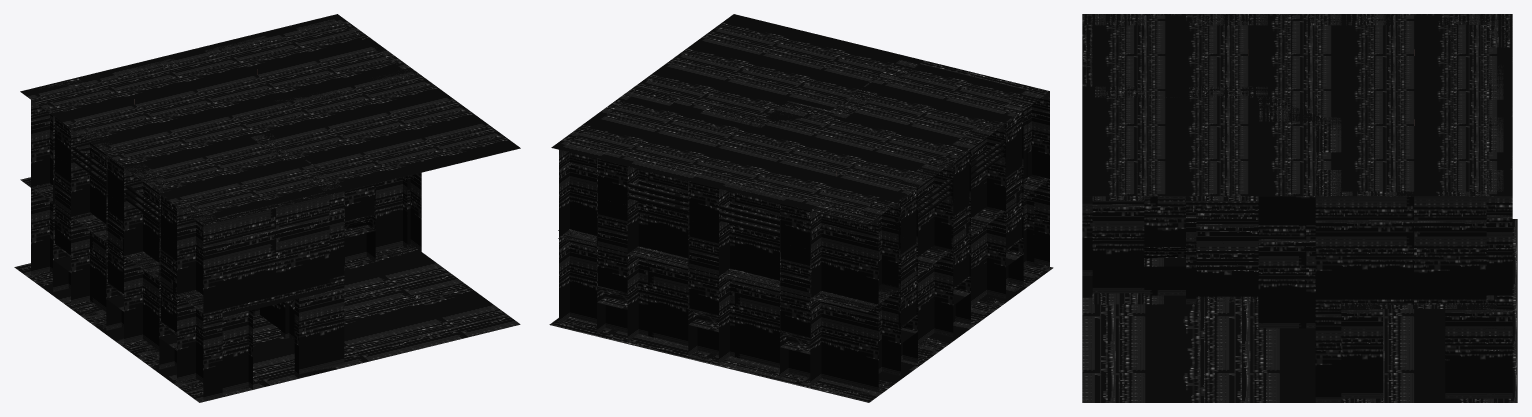
The model's file is room2C_opt.obj.
3 views of the same model, side by side, from view 1: azimuth 30°, elevation 25°; view 2: azimuth 150°, elevation 25°; view 3: azimuth 270°, elevation 25° (orthographic). The views are drawn at different scales.
Size of the model in its own units: 1344 by 727 by 1344.
